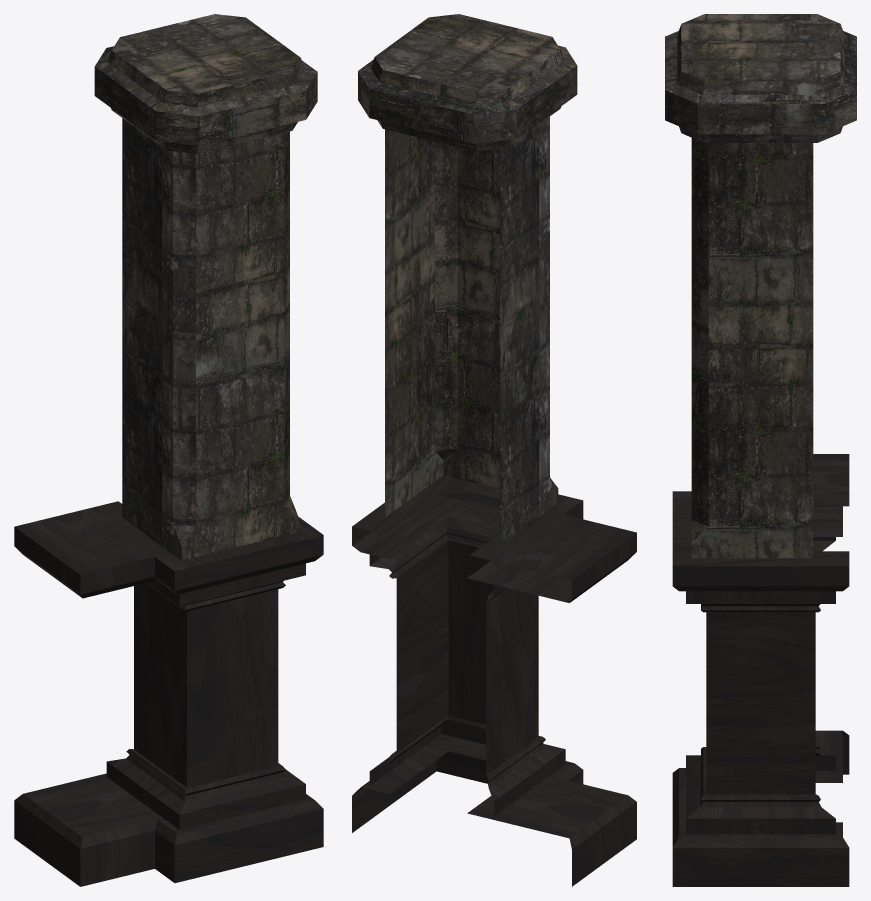
File: left_column.obj
3 views of the same model, side by side, from view 1: azimuth 30°, elevation 25°; view 2: azimuth 150°, elevation 25°; view 3: azimuth 270°, elevation 25° (orthographic). The views are drawn at different scales.
Parts seen in each view (by area): view 1: [Imported]_L_column_L_column; view 2: [Imported]_L_column_L_column; view 3: [Imported]_L_column_L_column.
Boxes of the visible parts, left/top/right/bottom form: [Imported]_L_column_L_column: left=14, top=14, right=323, bottom=886; [Imported]_L_column_L_column: left=352, top=14, right=636, bottom=886; [Imported]_L_column_L_column: left=665, top=14, right=856, bottom=886.
Bounding box in the file's own units: 3.95 × 12.8 × 2.78.
